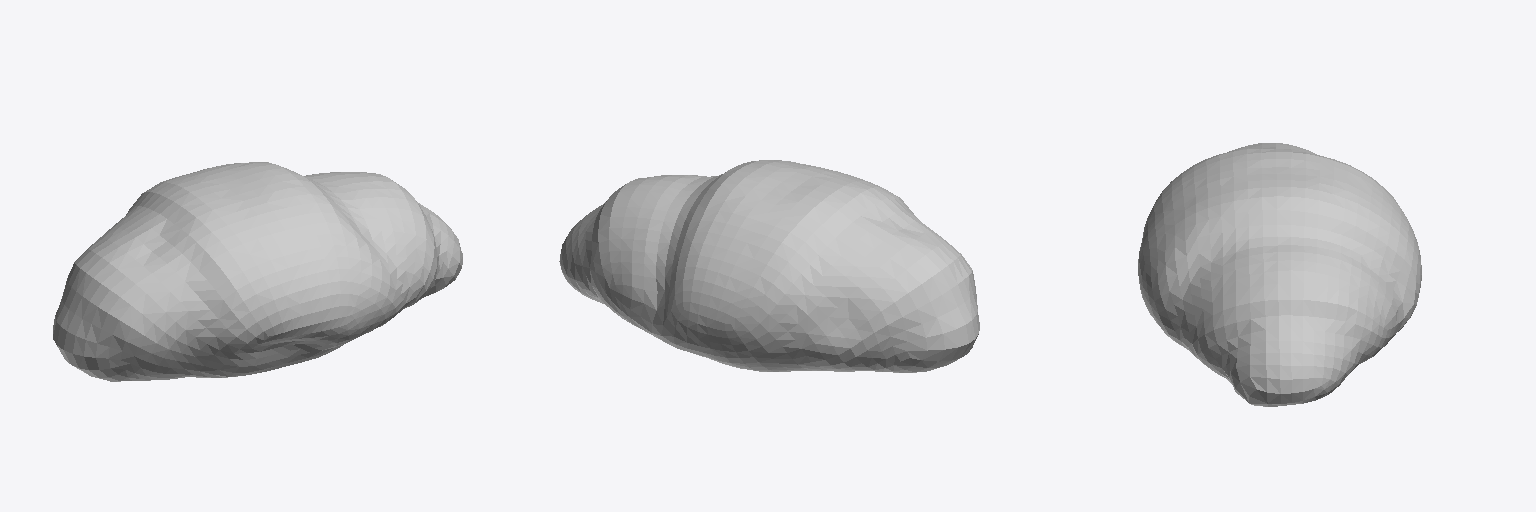
The model's file is pan.obj.
3 renders of one model, left to right at view 1: azimuth 30°, elevation 25°; view 2: azimuth 150°, elevation 25°; view 3: azimuth 270°, elevation 25°, orthographic.
Parts seen in each view (by area): view 1: PlainBread; view 2: PlainBread; view 3: PlainBread.
Part boxes in pixels (x1,y1,x2,y2): PlainBread: (53,162,462,381); PlainBread: (559,160,979,372); PlainBread: (1138,143,1421,406).
Size of the model in its own units: 6.37 by 2.36 by 3.91.